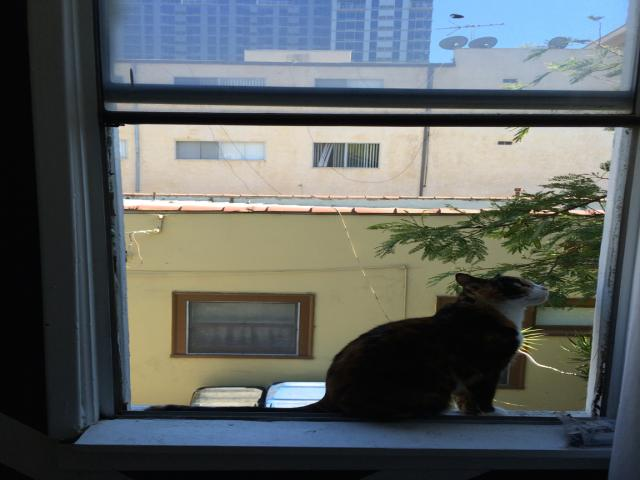Cat: (142, 272, 548, 415)
